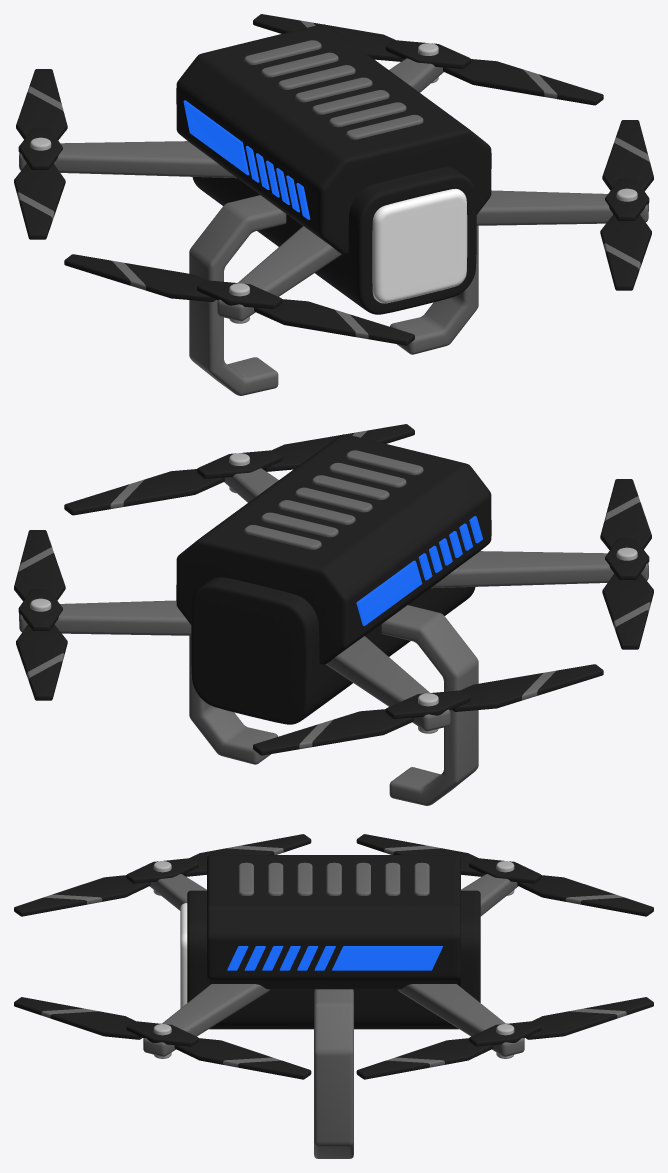
Rendered from drone1.glb.
The picture shows the model from 3 angles, top to bottom: view 1: azimuth 30°, elevation 25°; view 2: azimuth 150°, elevation 25°; view 3: azimuth 270°, elevation 25°; orthographic projection. The views are drawn at different scales.
Visible parts, largest first — view 1: Cube.049, Cube.052, Plane.041, Plane.038, Plane.040, Cube.050, Cube.051, Plane.036, Plane.039, Plane.037, Cylinder.064; view 2: Cube.049, Cube.050, Cube.052, Plane.041, Plane.038, Plane.040, Plane.036, Plane.039, Plane.037, Cylinder.064; view 3: Cube.049, Cube.050, Plane.040, Cube.052, Plane.038, Plane.041, Plane.037, Plane.039, Plane.036, Cylinder.064, Cube.051.
Part boxes in pixels (x1,y1,x2,y2): Cube.049: (176,24,491,254); Cube.052: (19,58,648,321); Plane.041: (189,195,478,395); Plane.038: (14,59,653,301); Plane.040: (16,14,651,345); Cube.050: (192,167,476,314); Cube.051: (372,188,467,303); Plane.036: (244,40,423,139); Plane.039: (18,40,649,308); Plane.037: (183,100,310,219); Cylinder.064: (30,43,637,323); Cube.049: (176,434,491,664); Cube.050: (191,577,475,724); Cube.052: (19,468,648,731); Plane.041: (189,605,478,805); Plane.038: (14,469,653,711); Plane.040: (16,424,651,755); Plane.036: (244,450,423,549); Plane.039: (18,450,649,718); Plane.037: (356,516,482,625); Cylinder.064: (30,453,637,733); Cube.049: (207,855,460,989); Cube.050: (187,890,480,1029); Plane.040: (14,875,653,1039); Cube.052: (143,874,524,1056); Plane.038: (174,834,493,1079); Plane.041: (314,989,353,1158); Plane.037: (227,946,442,970); Plane.039: (126,858,541,1046); Plane.036: (238,862,429,895); Cylinder.064: (153,861,514,1058); Cube.051: (180,903,187,1008).
Size of the model in its own units: 2.76 by 1.27 by 3.09.
